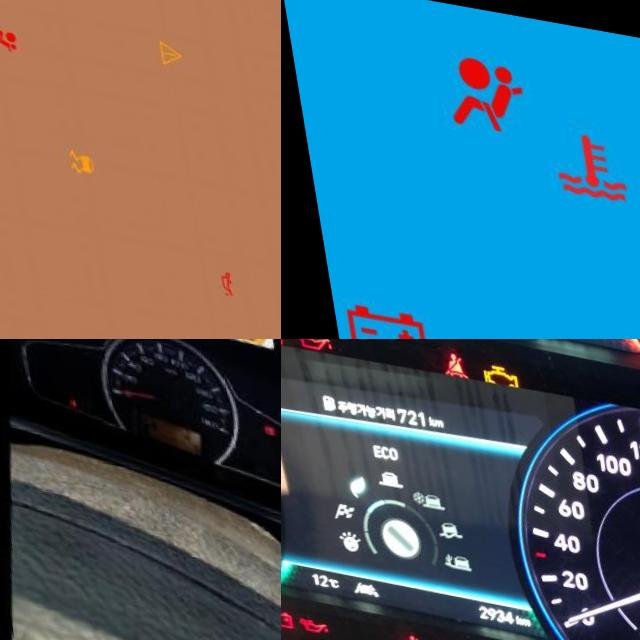High Engine Coolant Temperature: (533, 102, 638, 208)
